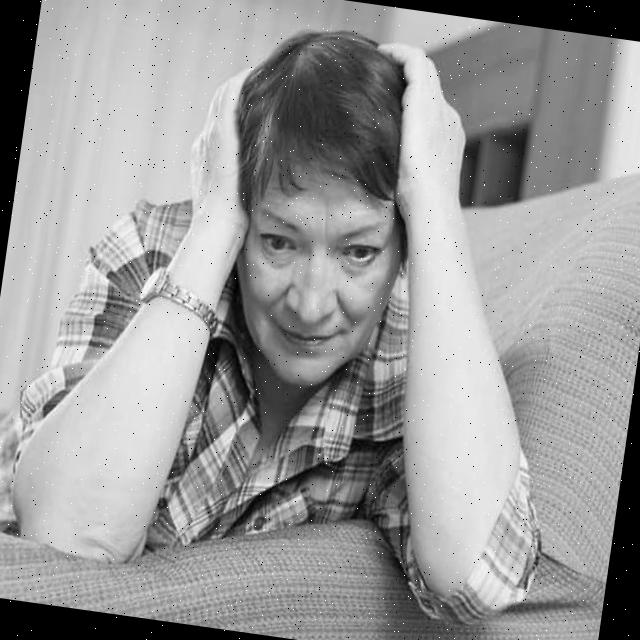Sadness: (232, 162, 402, 394)
